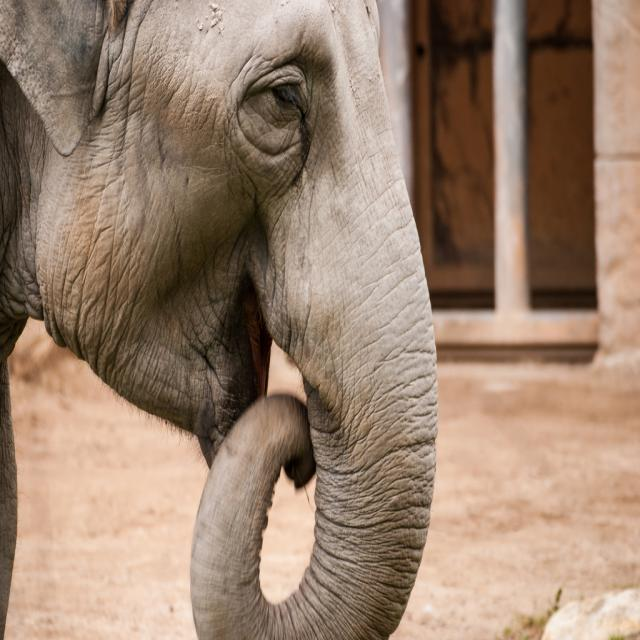Elephant: (0, 0, 438, 639)
